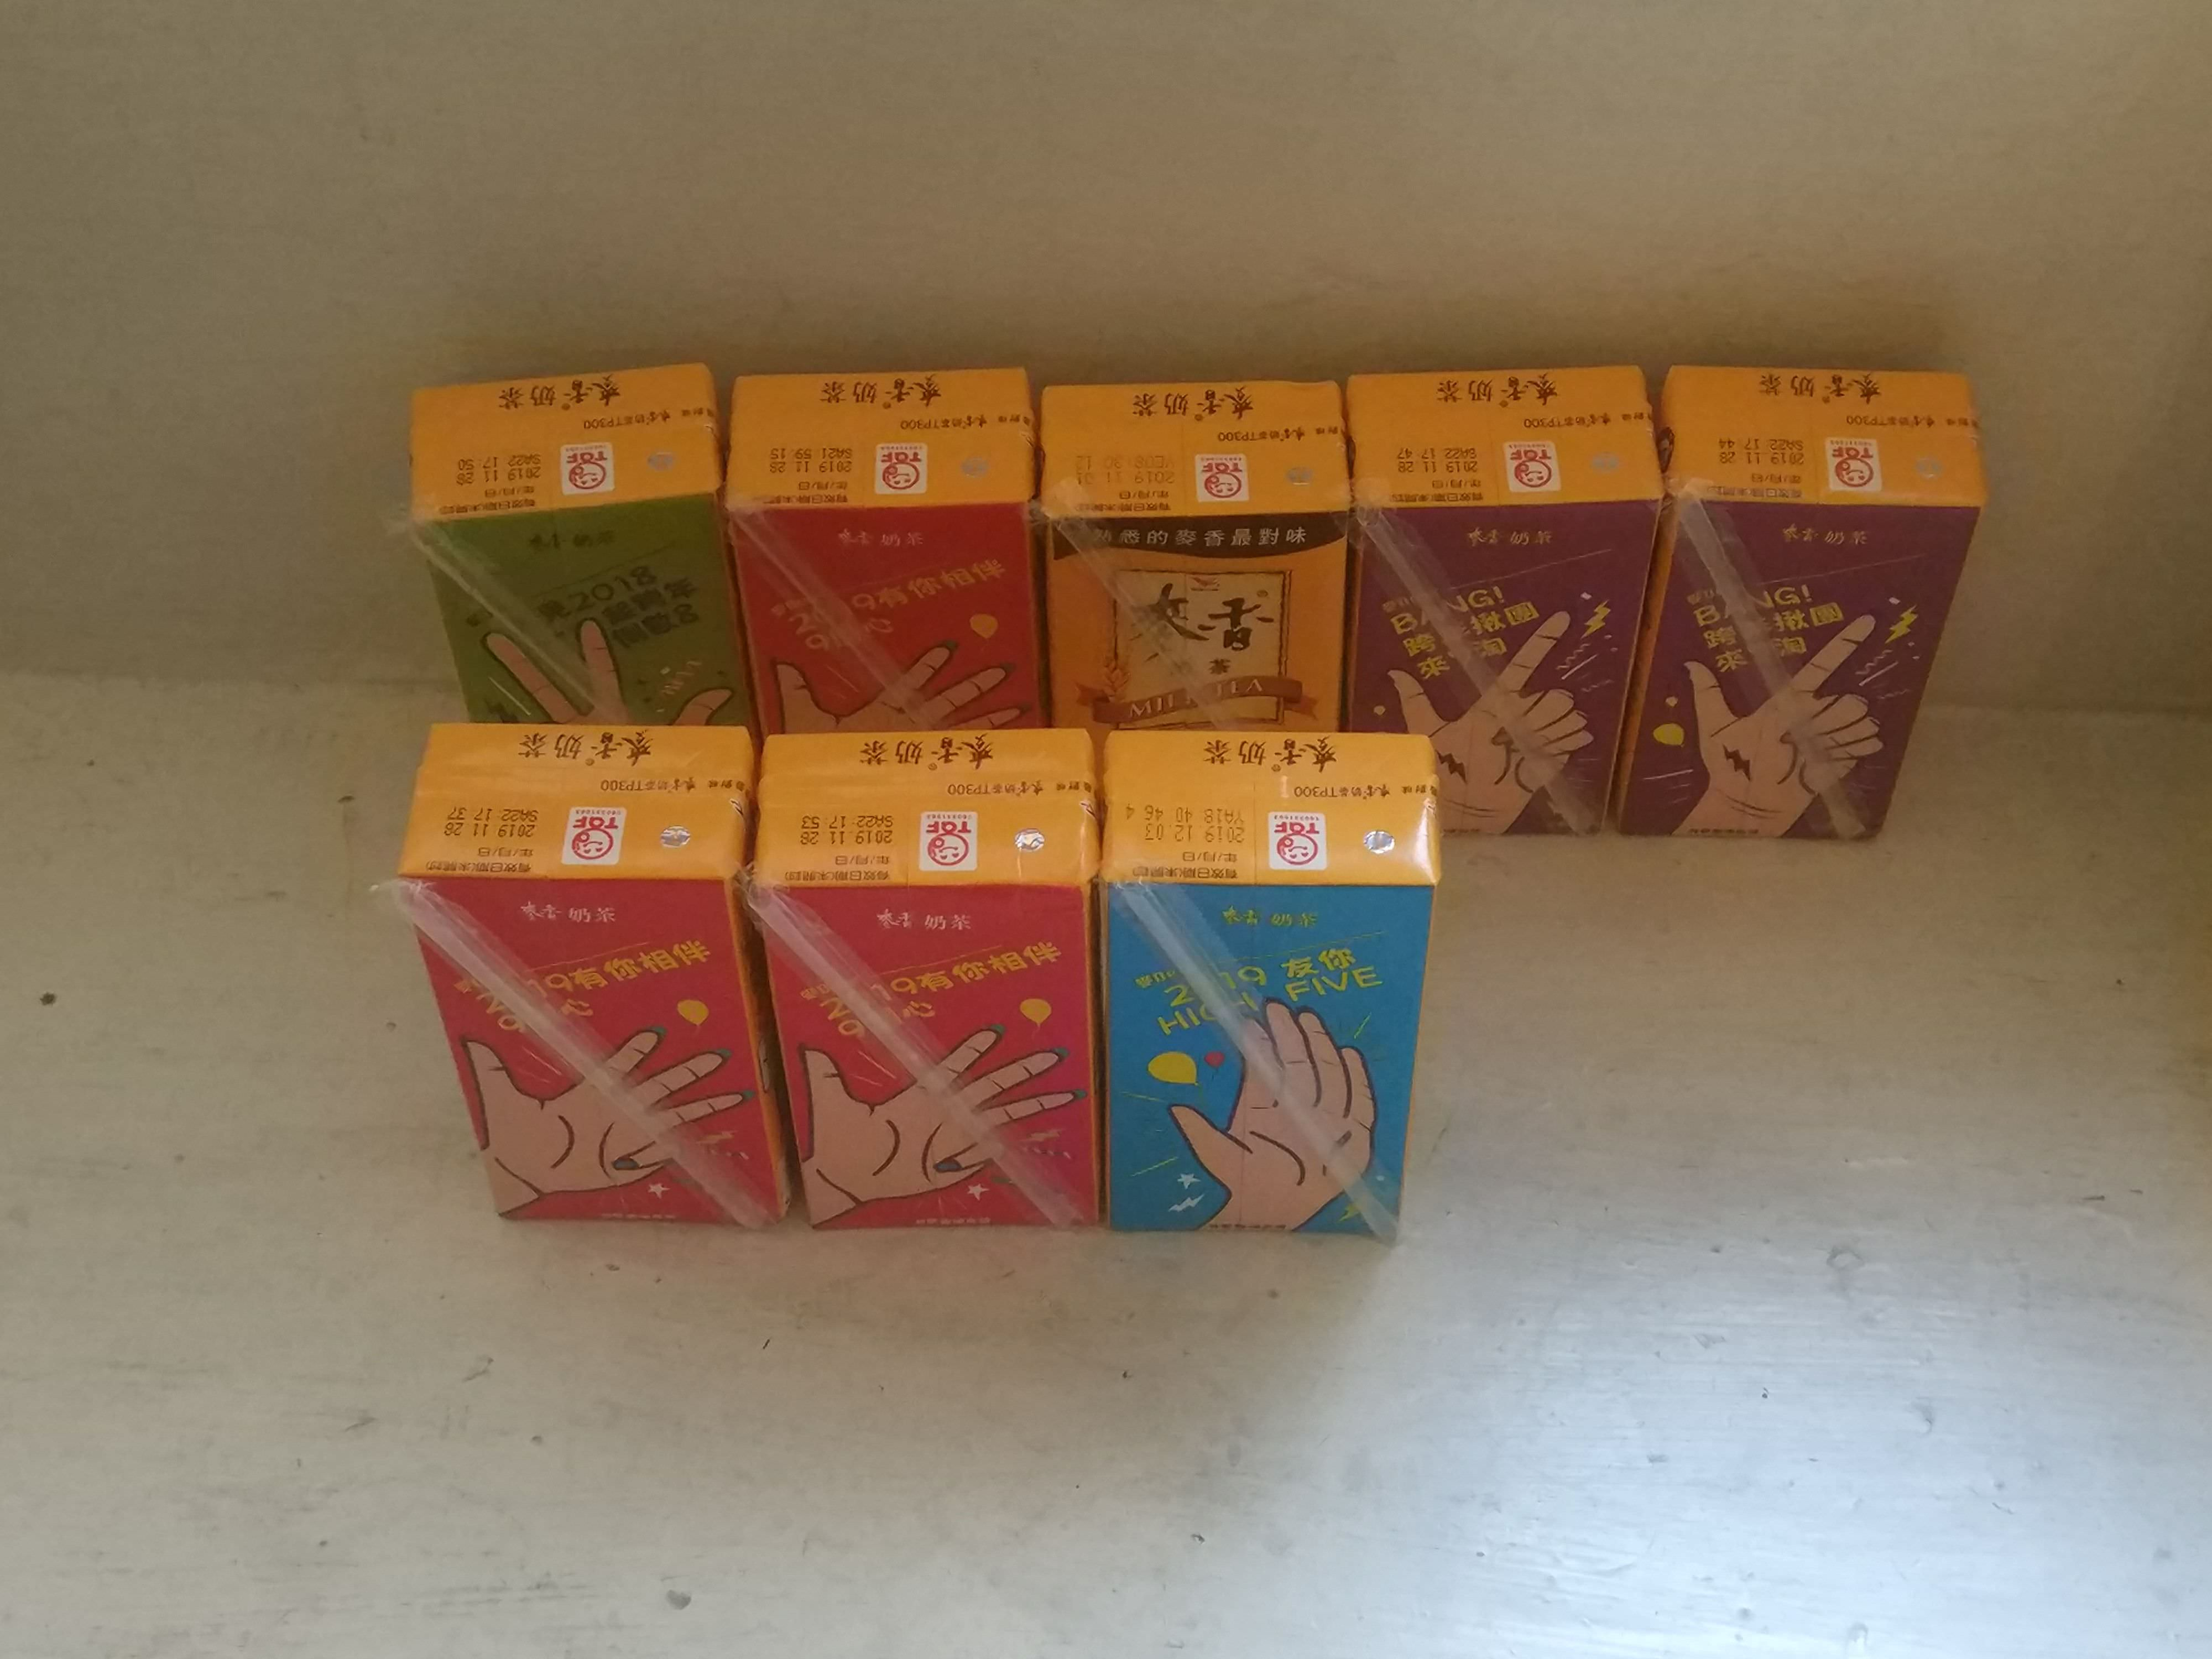milk tea: (1040, 376, 1345, 720)
